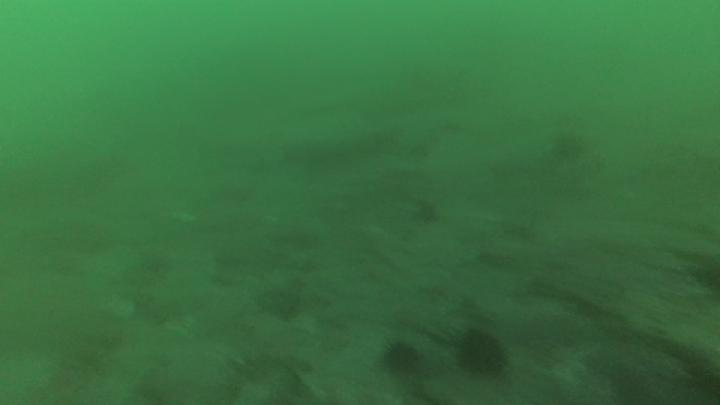echinus: (463, 334, 508, 374), (387, 343, 420, 376)
